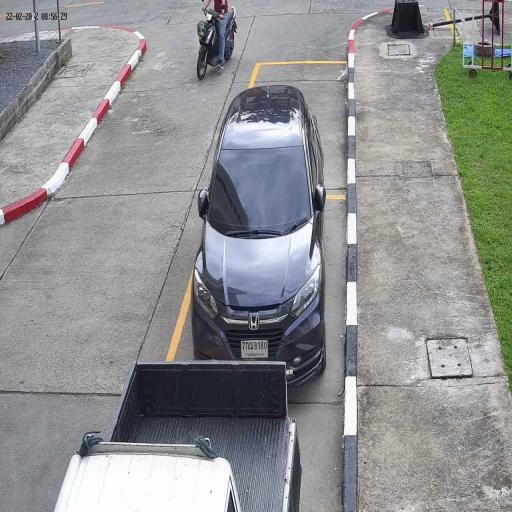car: (190, 84, 326, 392), (53, 360, 302, 512)
motorcycle: (196, 5, 238, 82)
